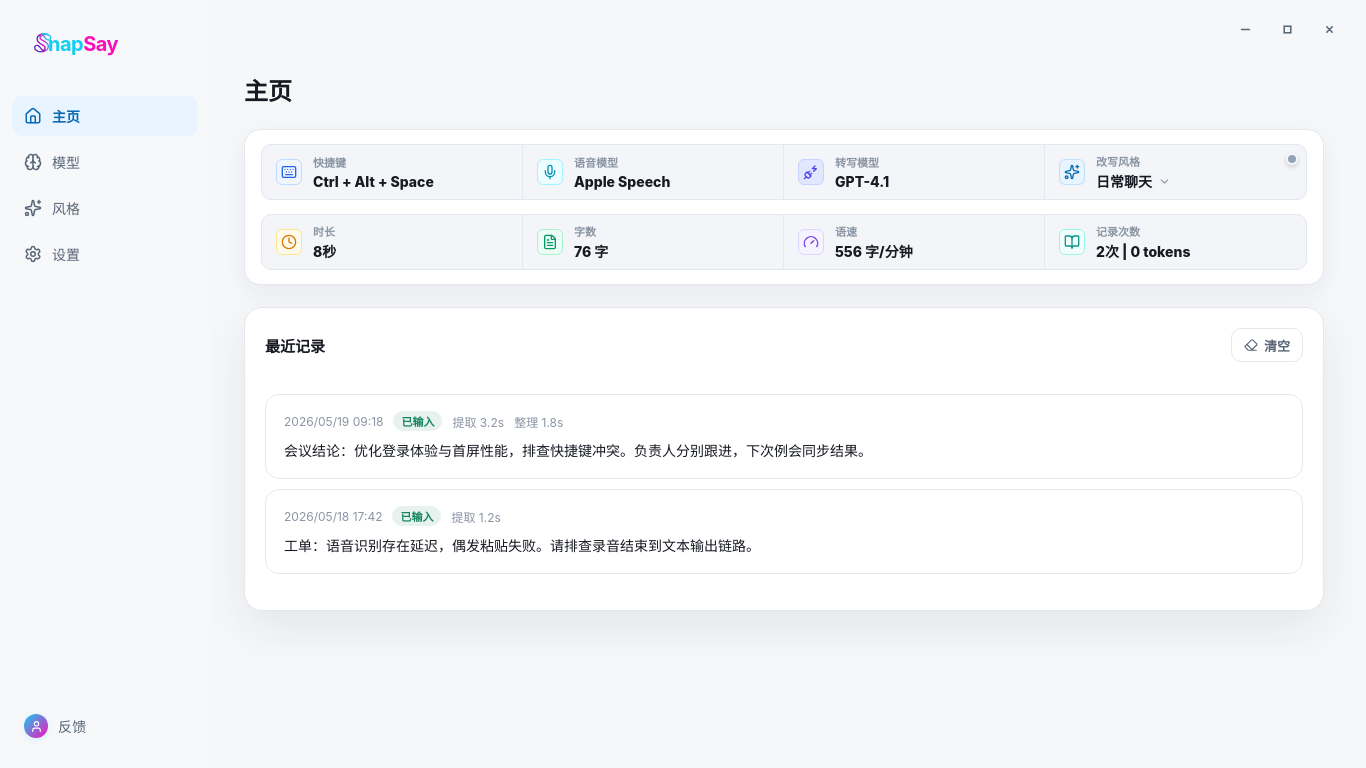
Test: SnapSay main renderer › switches to settings and shows shortcut and behavior config
Click the button "设置".
click(105, 254)  # box [12,234,198,274]
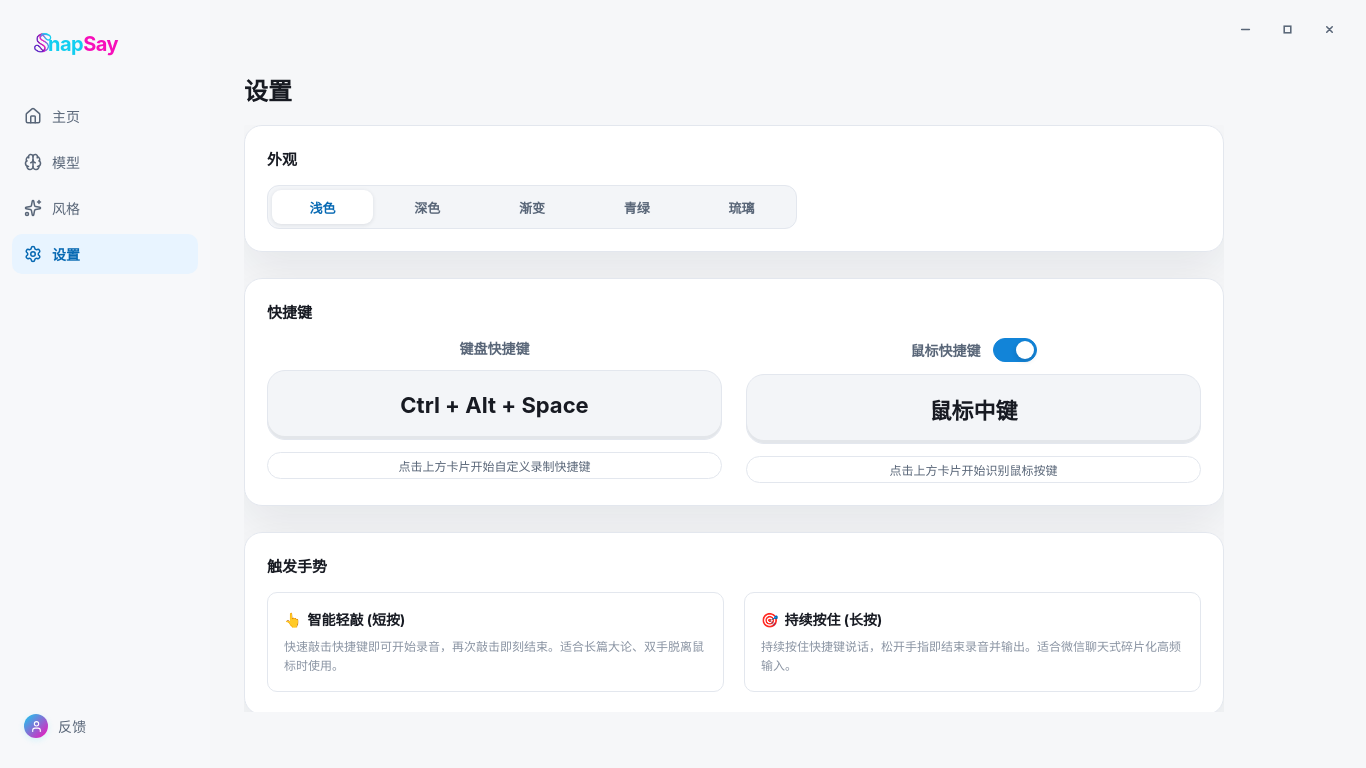
Result: the heading "设置" is shown at [244,77,292,106]
Result: the element labelled "键盘快捷键" holds "Ctrl + Alt + Space" at [267,338,722,479]
Result: the checkbox named "启用鼠标触发" is checked at [910,338,1036,362]
